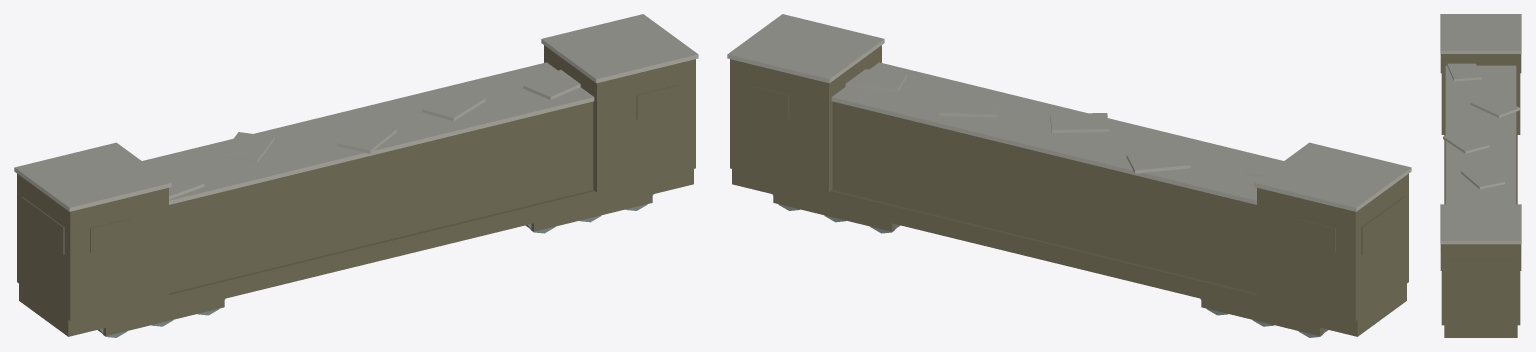
File: SM_Locomotora_v3_Quemada_LOD0.fbx
The picture shows the model from 3 angles, left to right: view 1: azimuth 30°, elevation 25°; view 2: azimuth 150°, elevation 25°; view 3: azimuth 270°, elevation 25°; orthographic projection. The views are drawn at different scales.
Parts seen in each view (by area): view 1: SM_aqui_paso_algo_v3_LOD0; view 2: SM_aqui_paso_algo_v3_LOD0; view 3: SM_aqui_paso_algo_v3_LOD0.
Part boxes in pixels (x1,y1,x2,y2): SM_aqui_paso_algo_v3_LOD0: (14, 14, 698, 337); SM_aqui_paso_algo_v3_LOD0: (727, 14, 1411, 337); SM_aqui_paso_algo_v3_LOD0: (1440, 14, 1521, 337).
Bounding box in the file's own units: 19.1 × 4.32 × 2.9.
